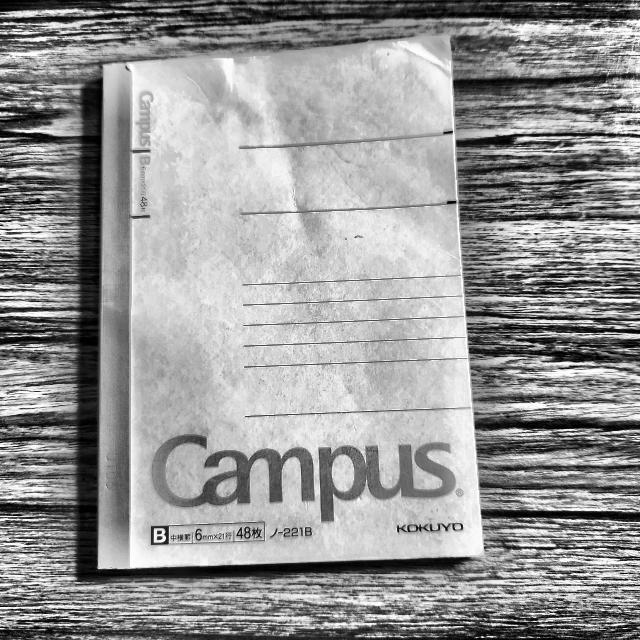Notebook: (86, 37, 495, 582)
